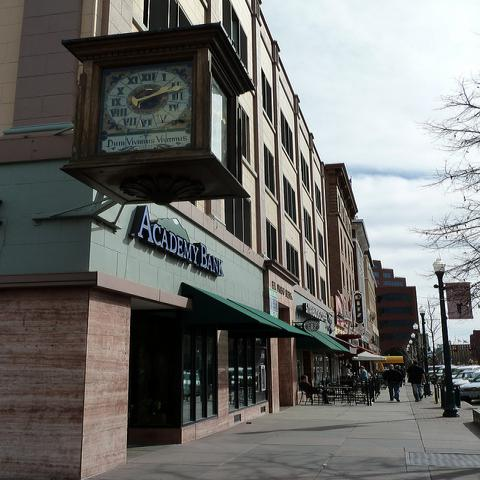car: (429, 366, 457, 386), (453, 369, 480, 389), (460, 374, 479, 400), (452, 369, 479, 384), (451, 365, 480, 375)
